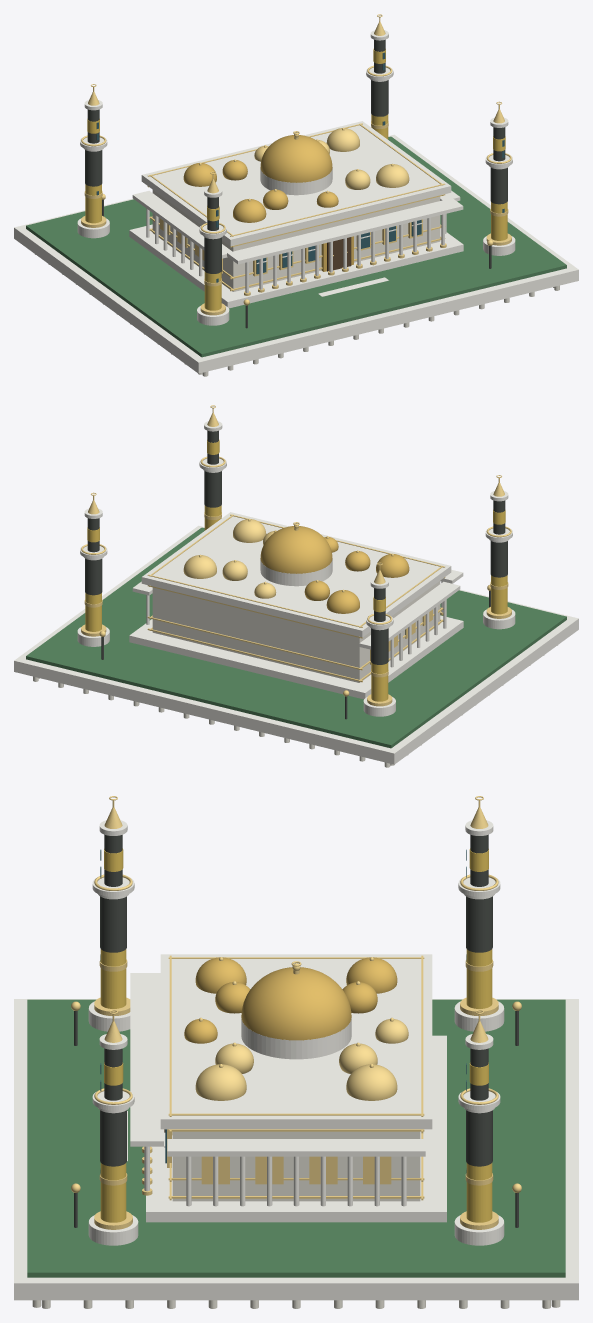
The picture shows the model from 3 angles, top to bottom: view 1: azimuth 30°, elevation 25°; view 2: azimuth 150°, elevation 25°; view 3: azimuth 270°, elevation 25°; orthographic projection. The views are drawn at different scales.
Visible parts, largest first — view 1: Platform hijau, Bumbung datar utama, Pulau asas, Lantai utama, Dinding ruang solat, Bumbung serambi hadapan, Kubah utama emas, Bumbung serambi sisi, Drum kubah utama, Kubah kecil 01, Kubah kecil 00, Kubah kecil 03 (+9 smaller); view 2: Platform hijau, Bumbung datar utama, Pulau asas, Dinding ruang solat, Lantai utama, Kubah utama emas, Bumbung serambi sisi, Drum kubah utama, Kubah kecil 03, Kubah kecil 02, Kubah kecil 01, Kubah kecil 00 (+9 smaller); view 3: Platform hijau, Bumbung datar utama, Pulau asas, Lantai utama, Dinding ruang solat, Kubah utama emas, Bumbung serambi hadapan, Bumbung serambi sisi.001, Drum kubah utama, Kubah kecil 01, Kubah kecil 03, Menara 1 batang hitam (+25 smaller).
Boxes of the visible parts, box(x1,y1,x2,y2) form: Platform hijau: box(26, 136, 566, 357); Bumbung datar utama: box(141, 121, 451, 246); Pulau asas: box(14, 134, 578, 373); Lantai utama: box(129, 224, 463, 308); Dinding ruang solat: box(152, 190, 440, 291); Bumbung serambi hadapan: box(227, 198, 463, 264); Kubah utama emas: box(260, 135, 332, 182); Bumbung serambi sisi: box(132, 190, 231, 258); Drum kubah utama: box(260, 168, 332, 195); Kubah kecil 01: box(376, 164, 409, 187); Kubah kecil 00: box(233, 199, 266, 222); Kubah kecil 03: box(326, 128, 359, 151); Platform hijau: box(26, 527, 566, 748); Bumbung datar utama: box(141, 512, 451, 637); Pulau asas: box(14, 525, 578, 764); Dinding ruang solat: box(152, 581, 440, 682); Lantai utama: box(129, 615, 463, 699); Kubah utama emas: box(260, 526, 332, 573); Bumbung serambi sisi: box(359, 581, 460, 649); Drum kubah utama: box(260, 559, 332, 586); Kubah kecil 03: box(183, 555, 216, 578); Kubah kecil 02: box(326, 590, 359, 613); Kubah kecil 01: box(233, 519, 266, 542); Kubah kecil 00: box(376, 554, 409, 577); Platform hijau: box(27, 999, 565, 1277); Bumbung datar utama: box(160, 954, 432, 1129); Pulau asas: box(14, 999, 578, 1300); Lantai utama: box(146, 1035, 446, 1222); Dinding ruang solat: box(172, 1131, 420, 1201); Kubah utama emas: box(241, 967, 351, 1040); Bumbung serambi hadapan: box(130, 973, 163, 1146); Bumbung serambi sisi.001: box(167, 1139, 425, 1156); Drum kubah utama: box(241, 1018, 351, 1059); Kubah kecil 01: box(195, 1064, 246, 1100); Kubah kecil 03: box(346, 1064, 397, 1100); Menara 1 batang hitam: box(100, 896, 126, 952).
Size of what is drawn, in the model's own units: 25 by 11.08 by 21.
